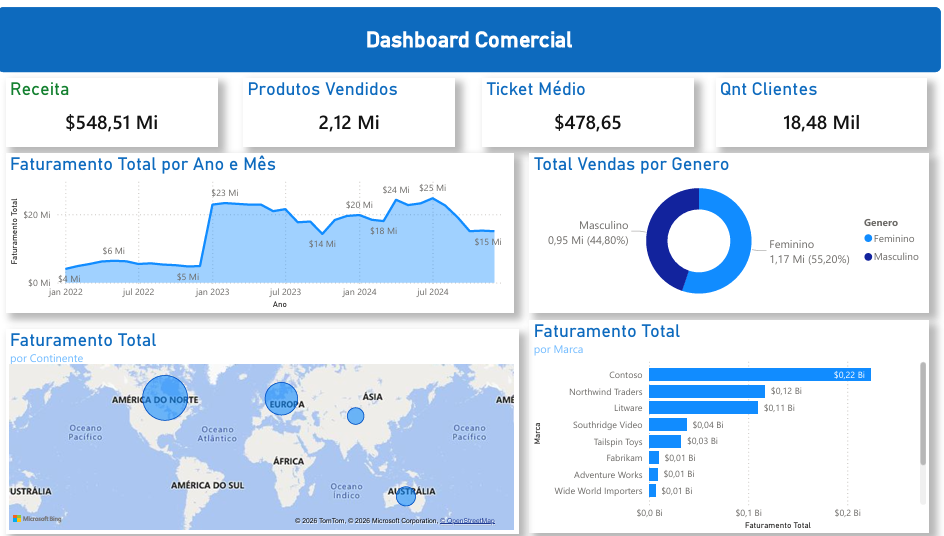

Layout of this report page (visuals, bound fields, positions):
{"tool":"powerbi","page":{"name":"Página 1","canvas":[1280,720],"ordinal":0},"visuals":[{"type":"textbox","box":[10,0,1258.3,86.7],"z":0},{"type":"cardVisual","title":"Receita","fields":{"Data":["Base Vendas.Faturamento Total"]},"box":[21.8,95.5,281.8,91.4],"z":1000},{"type":"cardVisual","title":"Produtos Vendidos","fields":{"Data":["Base Vendas.Total Vendas"]},"box":[339.1,95.5,281.8,91.4],"z":2000},{"type":"cardVisual","title":"Qnt Clientes","fields":{"Data":["Base Vendas.Qnt Clientes"]},"box":[967.7,95.5,281.4,91.4],"z":3000},{"type":"cardVisual","title":"Ticket Médio","fields":{"Data":["Base Vendas.Ticket Médio"]},"box":[655.9,95.5,281.8,91.4],"z":4000},{"type":"areaChart","fields":{"Y":["Base Vendas.Faturamento Total"],"Category":["Base Vendas.Data Venda.Variation.Hierarquia de datas.Ano","Base Vendas.Data Venda.Variation.Hierarquia de datas.Mês"]},"box":[21.7,195,676.7,211.7],"z":5000},{"type":"donutChart","fields":{"Y":["Base Vendas.Total Vendas"],"Category":["Cadastro Clientes.Genero"]},"box":[720,195,533.3,211.7],"z":6000},{"type":"barChart","fields":{"Y":["Base Vendas.Faturamento Total"],"Category":["Cadastro Produtos.Marca"]},"box":[720,418.3,533.3,283.3],"z":7000},{"type":"map","fields":{"Category":["Cadastro Lojas.Continente"],"Size":["Base Vendas.Faturamento Total"]},"box":[21.7,430,683.3,271.7],"z":8000}]}

Visuals, with their boxes in screenshot pixels (x1, y1, x2, y2), scaled from the page's 1280x720 canvas onto the 944x536 screenshot:
textbox: select_region(7, 0, 935, 65)
"Receita" cardVisual: select_region(16, 71, 224, 139)
"Produtos Vendidos" cardVisual: select_region(250, 71, 458, 139)
"Qnt Clientes" cardVisual: select_region(714, 71, 921, 139)
"Ticket Médio" cardVisual: select_region(484, 71, 692, 139)
areaChart - Base Vendas.Faturamento Total x Base Vendas.Data Venda.Variation.Hierarquia de datas.Ano: select_region(16, 145, 515, 303)
donutChart - Base Vendas.Total Vendas x Cadastro Clientes.Genero: select_region(531, 145, 924, 303)
barChart - Base Vendas.Faturamento Total x Cadastro Produtos.Marca: select_region(531, 311, 924, 522)
map - Cadastro Lojas.Continente x Base Vendas.Faturamento Total: select_region(16, 320, 520, 522)
